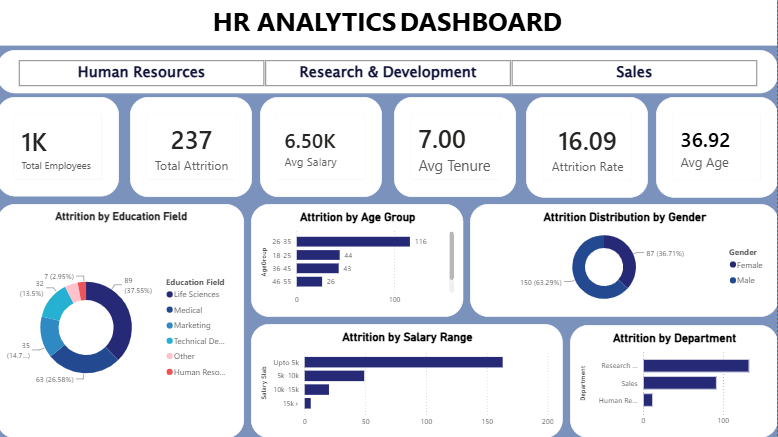

The dashboard page shown, as its layout file describes it:
{"tool":"powerbi","page":{"name":"Page 1","canvas":[1280,720],"ordinal":0},"visuals":[{"type":"barChart","title":"Attrition by Age Group","fields":{"Category":["HR_Dataset.AgeGroup"],"Y":["Sum(HR_Dataset.Attrition Flag)"]},"box":[416.9,336.6,347.9,184.5],"z":0},{"type":"donutChart","title":"Attrition by Education Field","fields":{"Category":["HR_Dataset.Education Field"],"Y":["Sum(HR_Dataset.Attrition Flag)"]},"box":[0,336.2,405.1,384],"z":1000},{"type":"barChart","title":"Attrition by Salary Range","fields":{"Category":["HR_Dataset.Salary Slab"],"Y":["Sum(HR_Dataset.Attrition Flag)"]},"box":[416.9,532.4,511.3,187.3],"z":2000},{"type":"slicer","fields":{"Values":["HR_Dataset.Department"]},"box":[0,83.3,1280,71.1],"z":3000},{"type":"donutChart","title":"Attrition Distribution by Gender","fields":{"Series":["HR_Dataset.Gender"],"Y":["Sum(HR_Dataset.Attrition Flag)"]},"box":[774.6,336.6,505.6,184.5],"z":4000},{"type":"textbox","box":[0,0,1280,75.6],"z":5000},{"type":"barChart","title":"Attrition by Department","fields":{"Category":["HR_Dataset.Department"],"Y":["Sum(HR_Dataset.Attrition Flag)"]},"box":[939,535,341,185],"z":6000},{"type":"cardVisual","fields":{"Data":["HR_Dataset.Total Employees"]},"box":[0,160.4,199.7,163.2],"z":7000},{"type":"cardVisual","fields":{"Data":["HR_Dataset.Total Attrition"]},"box":[217.5,160,200,163.8],"z":8000},{"type":"cardVisual","fields":{"Data":["HR_Dataset.Attrition Rate"]},"box":[867.5,160,200,165],"z":9000},{"type":"cardVisual","fields":{"Data":["HR_Dataset.Avg Age"]},"box":[1080.3,160.4,199.7,164.6],"z":10000},{"type":"cardVisual","fields":{"Data":["HR_Dataset.Avg Salary"]},"box":[431.2,160,200,163.8],"z":11000},{"type":"cardVisual","fields":{"Data":["HR_Dataset.Avg Tenure"]},"box":[650,160,200,163.8],"z":12000}]}

Visuals, with their boxes in screenshot pixels (x1, y1, x2, y2), scaled from the page's 1280x720 canvas onto the 778x437 screenshot:
"Attrition by Age Group" barChart: left=253, top=204, right=465, bottom=316
"Attrition by Education Field" donutChart: left=0, top=204, right=246, bottom=436
"Attrition by Salary Range" barChart: left=253, top=323, right=564, bottom=436
slicer - HR_Dataset.Department: left=0, top=51, right=777, bottom=94
"Attrition Distribution by Gender" donutChart: left=471, top=204, right=777, bottom=316
textbox: left=0, top=0, right=777, bottom=46
"Attrition by Department" barChart: left=571, top=325, right=777, bottom=436
cardVisual - HR_Dataset.Total Employees: left=0, top=97, right=121, bottom=196
cardVisual - HR_Dataset.Total Attrition: left=132, top=97, right=254, bottom=197
cardVisual - HR_Dataset.Attrition Rate: left=527, top=97, right=649, bottom=197
cardVisual - HR_Dataset.Avg Age: left=657, top=97, right=777, bottom=197
cardVisual - HR_Dataset.Avg Salary: left=262, top=97, right=384, bottom=197
cardVisual - HR_Dataset.Avg Tenure: left=395, top=97, right=517, bottom=197
